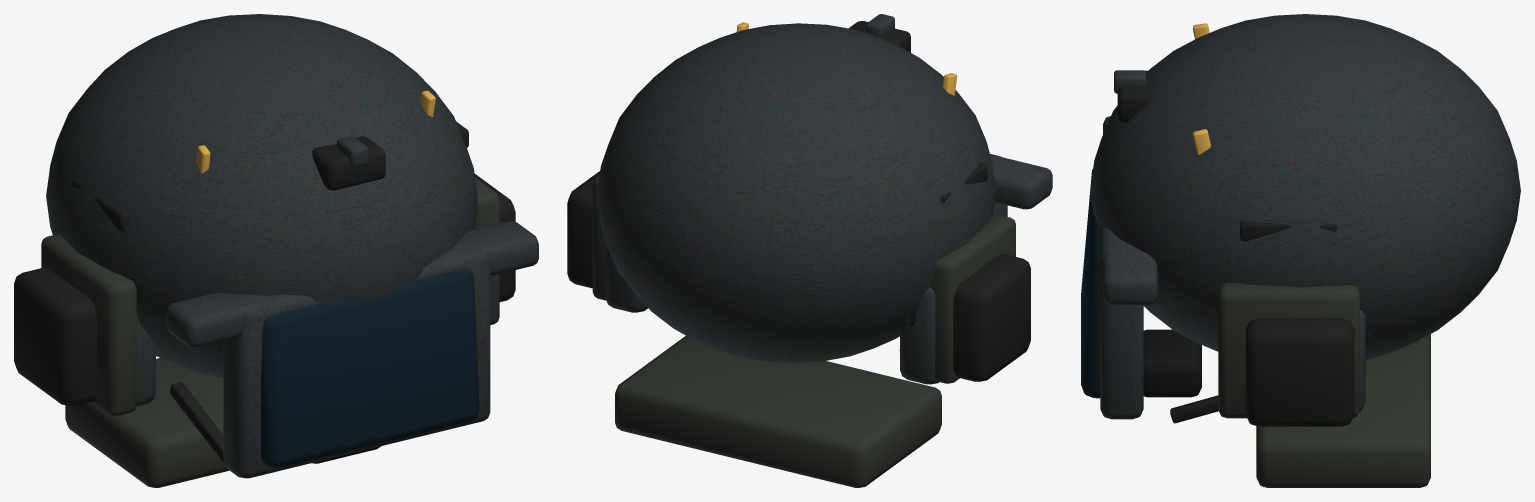
Rendered from gear_helm_altyn.glb.
3 views of the same model, side by side, from view 1: azimuth 30°, elevation 25°; view 2: azimuth 150°, elevation 25°; view 3: azimuth 270°, elevation 25° (orthographic). The views are drawn at different scales.
Parts seen in each view (by area): view 1: Gear; view 2: Gear; view 3: Gear.
Boxes of the visible parts, <box> form: Gear: <box>14,14,538,487</box>; Gear: <box>567,14,1052,487</box>; Gear: <box>1081,14,1520,487</box>.
Bounding box in the file's own units: 0.468 × 0.3958 × 0.4036.
6 materials, 1 textured.
